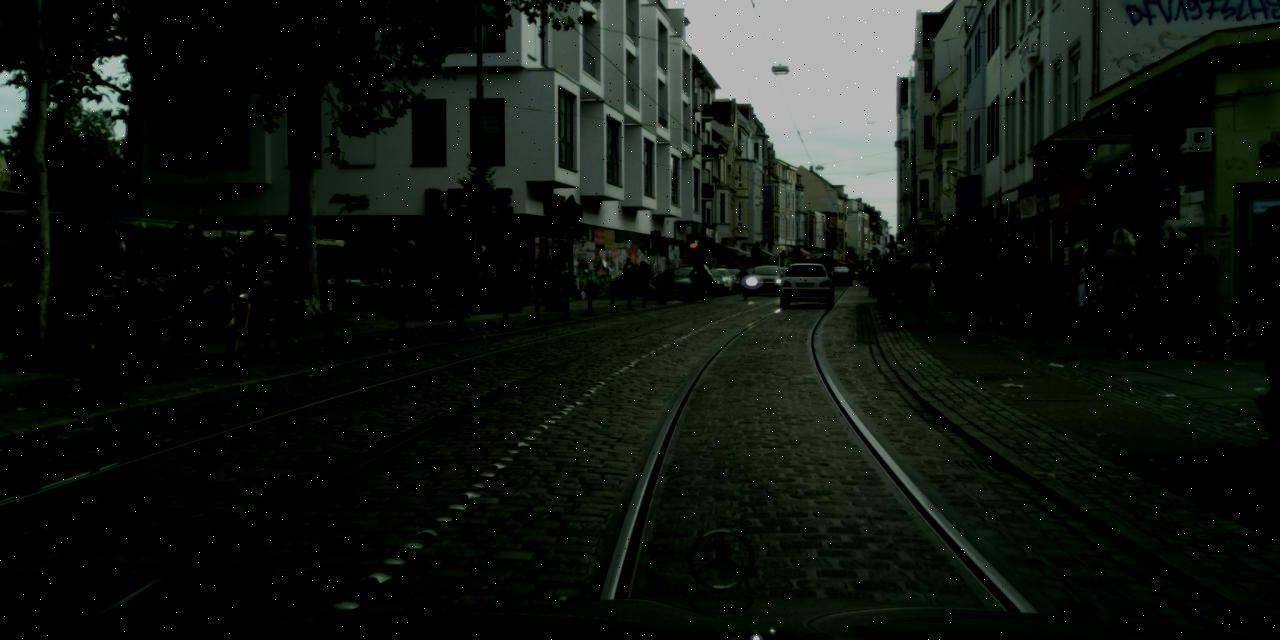ped: (1230, 205, 1279, 441), (156, 222, 210, 354), (1144, 224, 1198, 355), (1094, 227, 1146, 356), (237, 219, 286, 337), (86, 225, 132, 338), (1014, 242, 1058, 348), (275, 234, 316, 336), (979, 235, 1014, 324), (984, 243, 1018, 323), (904, 251, 936, 327), (1011, 240, 1042, 316), (877, 250, 915, 310), (447, 242, 477, 316), (207, 239, 237, 313), (950, 252, 978, 322), (399, 240, 426, 308), (380, 247, 404, 306), (533, 248, 556, 304), (497, 255, 520, 311), (935, 254, 957, 308), (516, 254, 536, 304), (928, 256, 948, 304), (972, 256, 988, 306), (944, 254, 962, 298), (620, 257, 637, 298), (635, 260, 650, 297), (691, 256, 705, 292), (640, 261, 652, 292), (738, 265, 748, 292), (952, 290, 957, 306), (959, 258, 959, 258)
